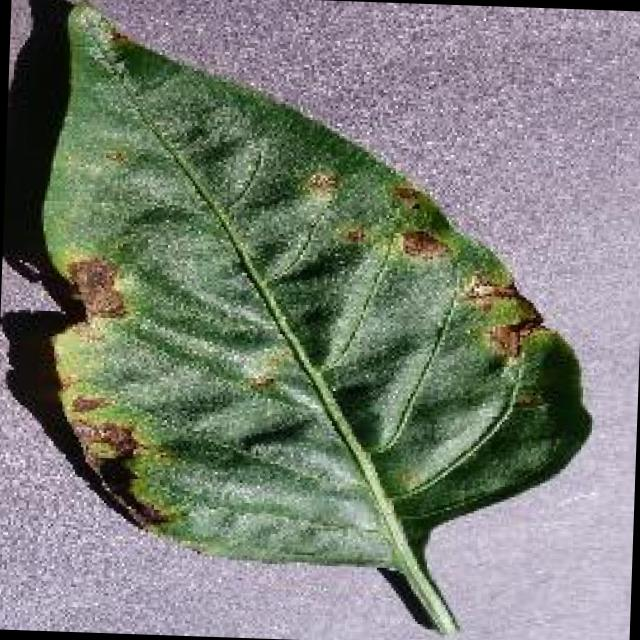Chilli_Bacterial_Spot: (17, 0, 608, 637), (38, 248, 195, 530), (294, 162, 455, 267), (456, 272, 546, 366), (60, 251, 130, 323), (70, 414, 142, 469), (458, 272, 519, 314), (392, 223, 452, 262), (482, 318, 526, 362), (300, 164, 340, 200), (386, 177, 425, 211), (335, 218, 371, 249), (242, 368, 278, 397), (98, 142, 131, 171), (102, 22, 130, 48)
